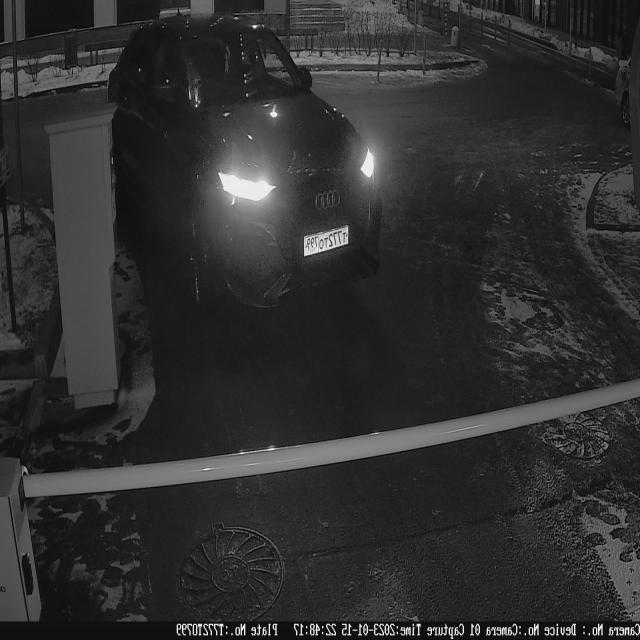car-plate-numbers: (302, 222, 352, 261)
